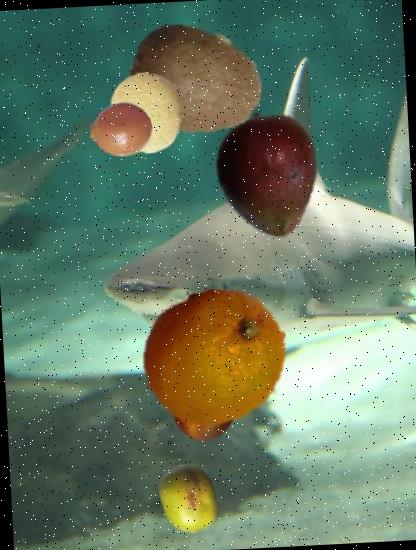Cantaloupe: (102, 70, 188, 155)
Kiwi: (122, 10, 270, 157)
Lemon: (139, 279, 293, 433)
Mango: (202, 106, 340, 244)
Nectarine: (168, 370, 242, 444)
Pomelo: (152, 462, 226, 536)
Tangelo: (88, 97, 154, 163)
